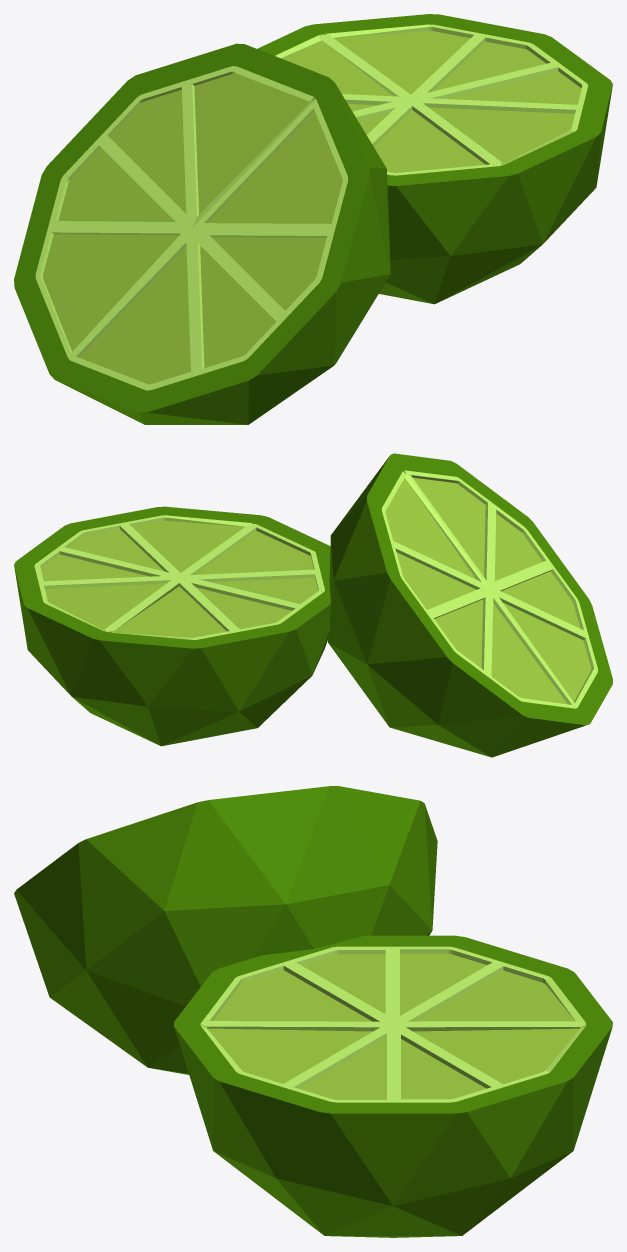
The model's file is LimonCortado.fbx.
3 views of the same model, one above another, from view 1: azimuth 30°, elevation 25°; view 2: azimuth 150°, elevation 25°; view 3: azimuth 270°, elevation 25° (orthographic). The views are drawn at different scales.
Visible parts, largest first — view 1: LimonMitad; view 2: LimonMitad; view 3: LimonMitad.
Part boxes in pixels (left/top/right/bottom): LimonMitad: left=14, top=14, right=612, bottom=424; LimonMitad: left=14, top=453, right=612, bottom=757; LimonMitad: left=14, top=786, right=612, bottom=1237.
Bounding box in the file's own units: 7.23 × 3.76 × 5.85.
